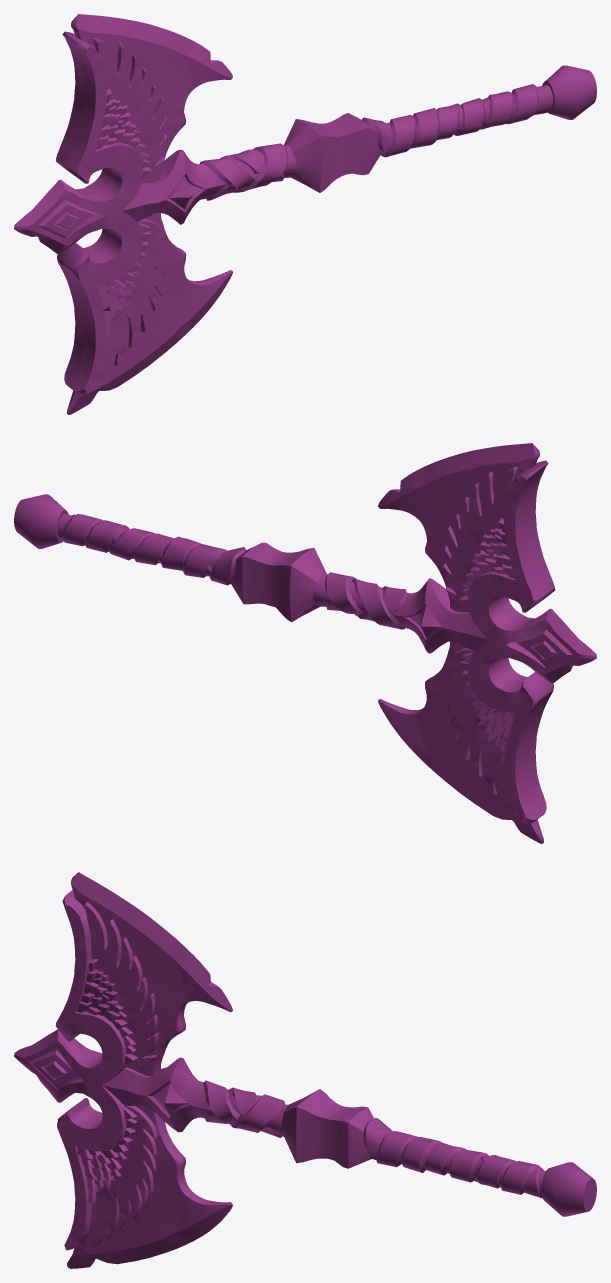
Rendered from SM_Rune_Two_Handed_Poleaxe_4.obj.
The picture shows the model from 3 angles, top to bottom: view 1: azimuth 30°, elevation 25°; view 2: azimuth 150°, elevation 25°; view 3: azimuth 330°, elevation 25°; orthographic projection.
Visible parts, largest first — view 1: SM_Rune_Two_Handed_Poleaxe_4; view 2: SM_Rune_Two_Handed_Poleaxe_4; view 3: SM_Rune_Two_Handed_Poleaxe_4.
Part boxes in pixels (x1,y1,x2,y2): SM_Rune_Two_Handed_Poleaxe_4: [14, 14, 596, 414]; SM_Rune_Two_Handed_Poleaxe_4: [14, 443, 596, 843]; SM_Rune_Two_Handed_Poleaxe_4: [14, 872, 596, 1268].
Size of the model in its own units: 819 by 541 by 63.09.
